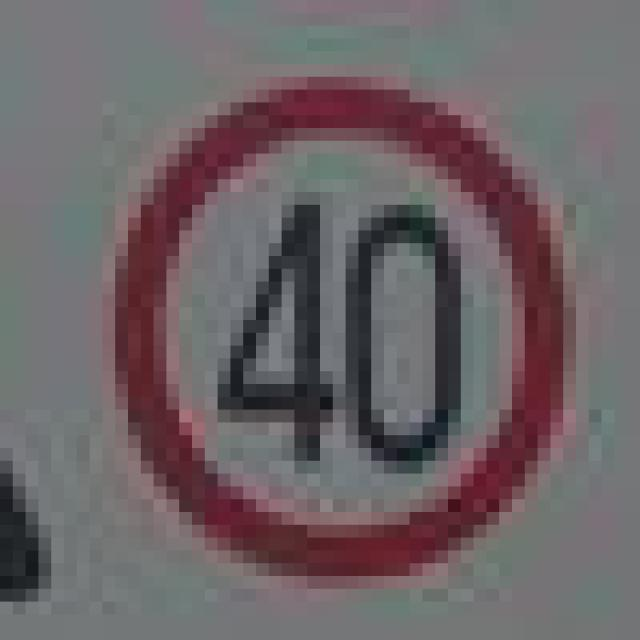falling_rocks: (115, 64, 563, 576)
